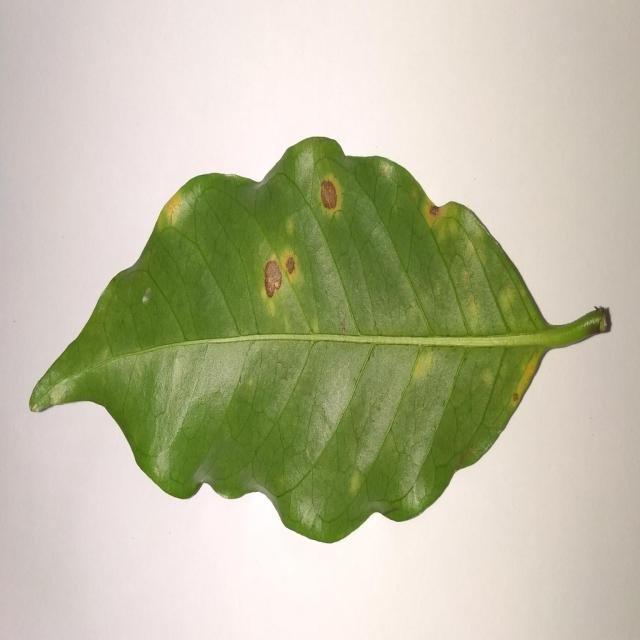Enfermedad-Mancha-de-hierro: (28, 137, 612, 547)
